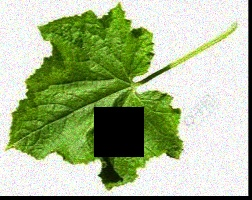cucumber_plant: (10, 11, 238, 186)
